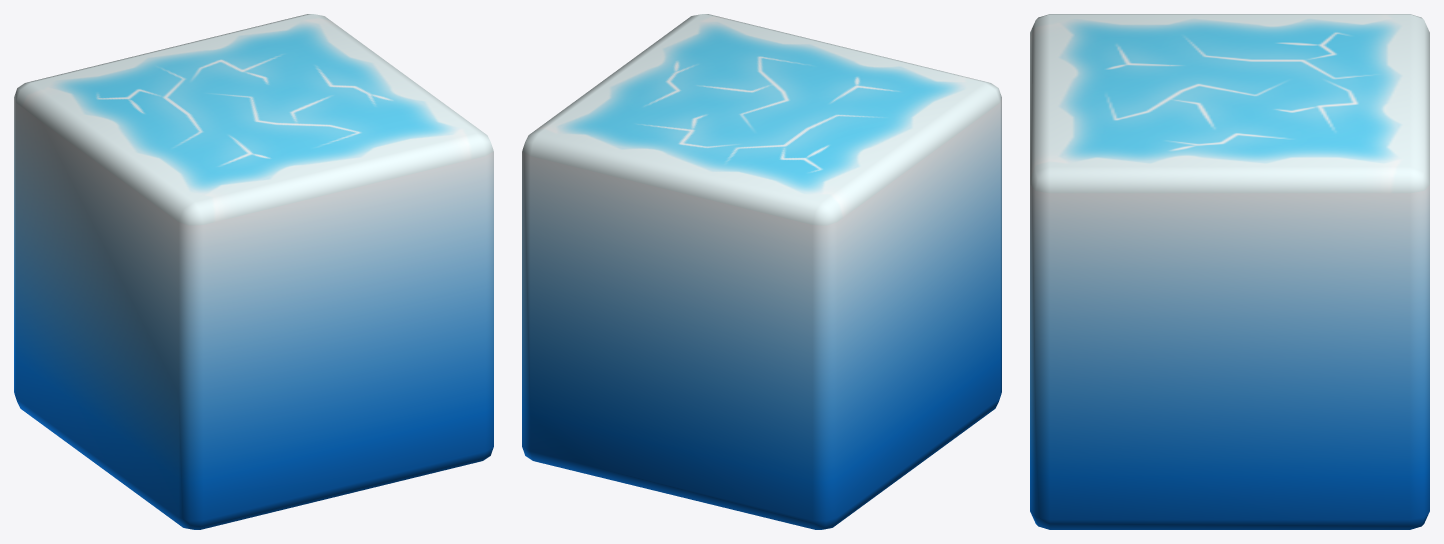
File: 3D_Tile_Ice_01.glb
The picture shows the model from 3 angles, left to right: view 1: azimuth 30°, elevation 25°; view 2: azimuth 150°, elevation 25°; view 3: azimuth 270°, elevation 25°; orthographic projection. The views are drawn at different scales.
Visible parts, largest first — view 1: 3D_Tile_Ice_01; view 2: 3D_Tile_Ice_01; view 3: 3D_Tile_Ice_01.
Boxes of the visible parts, left/top/right/bottom form: 3D_Tile_Ice_01: left=14, top=14, right=493, bottom=529; 3D_Tile_Ice_01: left=522, top=14, right=1001, bottom=529; 3D_Tile_Ice_01: left=1030, top=14, right=1429, bottom=529.
Bounding box in the file's own units: 2 × 2 × 2.
Materials: 1 (1 with a texture image).
